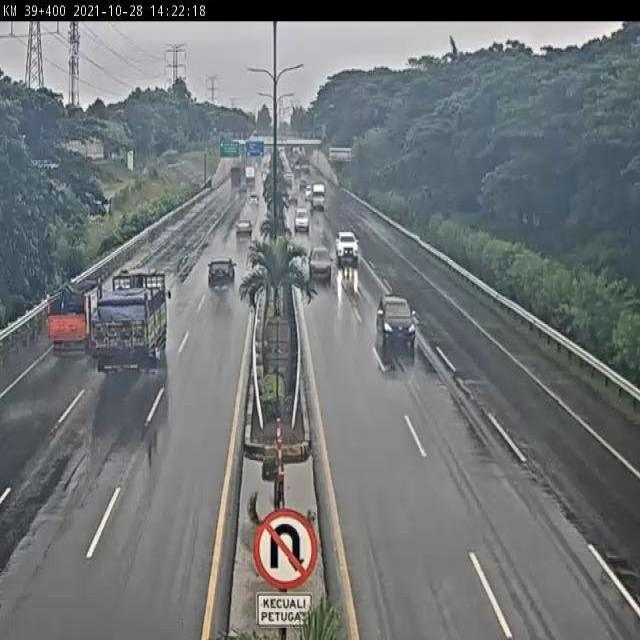car: (372, 293, 419, 348), (307, 244, 333, 284), (332, 227, 361, 261), (207, 259, 236, 289)
truck-l-: (86, 270, 172, 378)
truck-s-: (38, 281, 103, 355)
